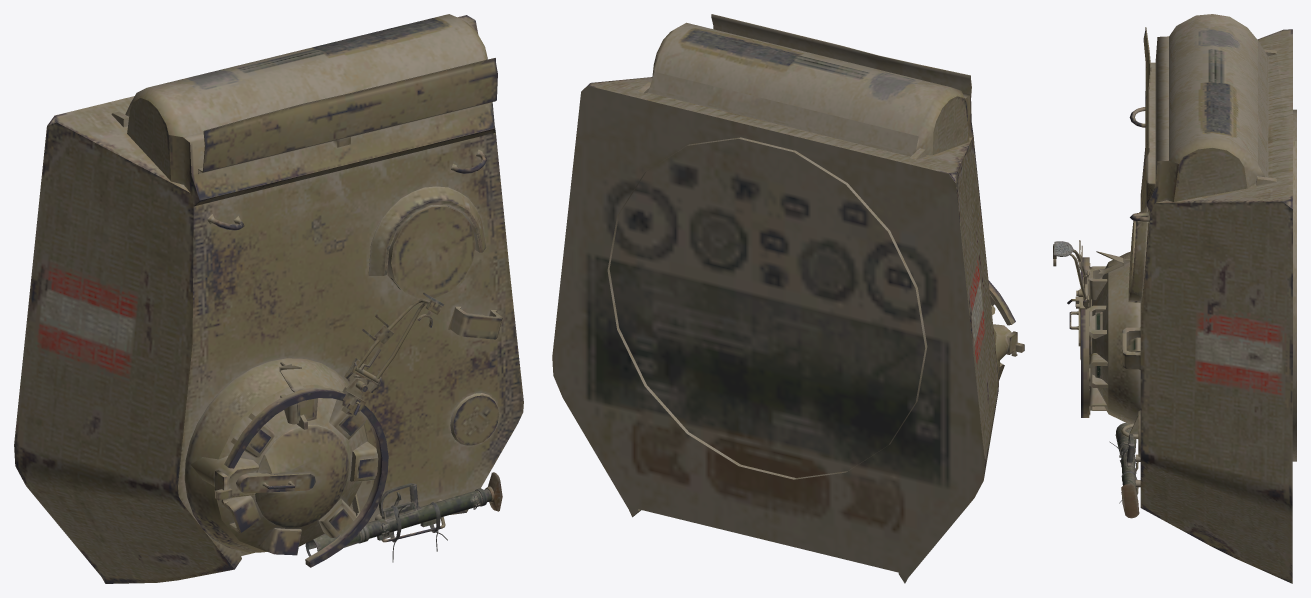
Rendered from Turret_01.glb.
The picture shows the model from 3 angles, left to right: view 1: azimuth 30°, elevation 25°; view 2: azimuth 150°, elevation 25°; view 3: azimuth 270°, elevation 25°; orthographic projection. The views are drawn at different scales.
Parts seen in each view (by area): view 1: set_0_group_0; view 2: set_0_group_0; view 3: set_0_group_0.
Boxes of the visible parts, bbox=[...] form: set_0_group_0: bbox=[14, 14, 523, 583]; set_0_group_0: bbox=[552, 14, 1024, 583]; set_0_group_0: bbox=[1053, 14, 1296, 583].
Size of the model in its own units: 2.56 by 2.6 by 1.3.
Materials: 1 (1 with a texture image).
